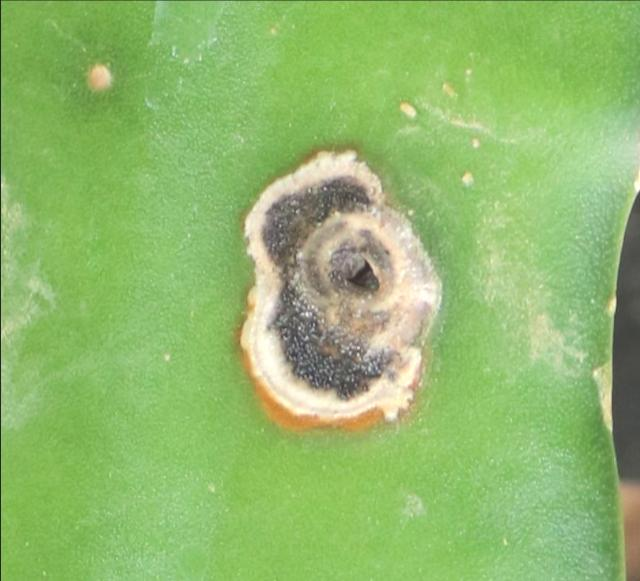stemcanker: (231, 146, 448, 436)
